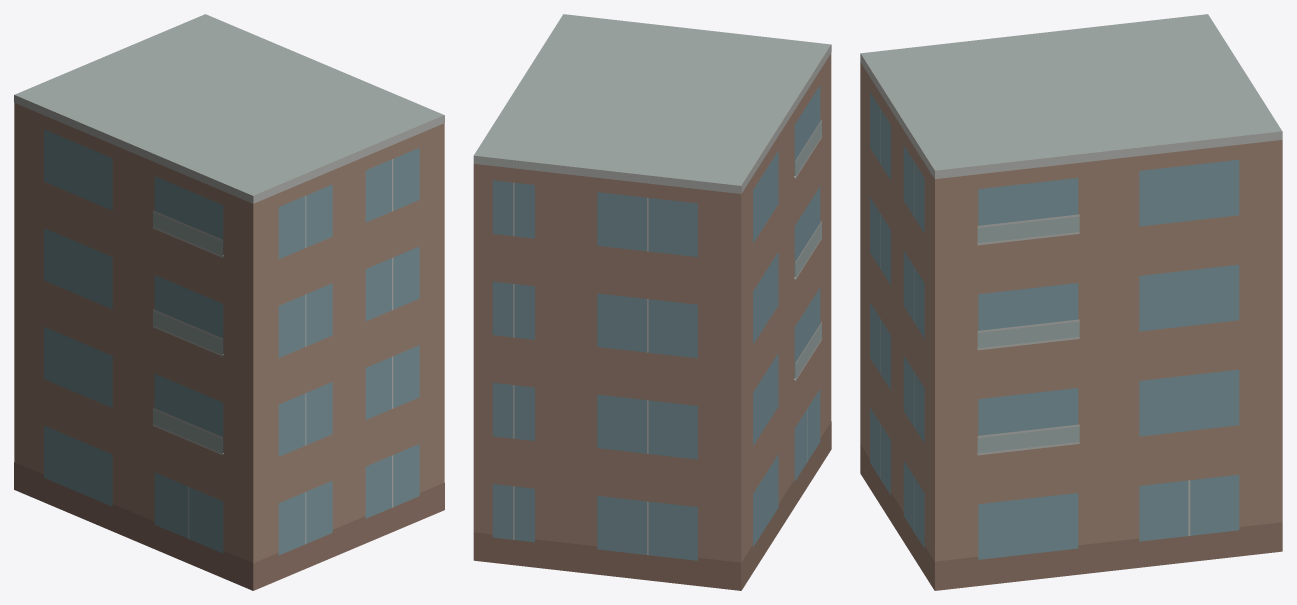
Rendered from residential-6b066b2d-f974-4544-8aff-dcc3209a767e.glb.
3 renders of one model, left to right at view 1: azimuth 30°, elevation 25°; view 2: azimuth 150°, elevation 25°; view 3: azimuth 270°, elevation 25°, orthographic. The views are drawn at different scales.
Visible parts, largest first — view 1: residential-6b066b2d-f974-4544-8aff-dcc3209a767e.tmp; view 2: residential-6b066b2d-f974-4544-8aff-dcc3209a767e.tmp; view 3: residential-6b066b2d-f974-4544-8aff-dcc3209a767e.tmp.
Boxes of the visible parts, x1,y1,x2,y2 form: residential-6b066b2d-f974-4544-8aff-dcc3209a767e.tmp: (14,14,444,590); residential-6b066b2d-f974-4544-8aff-dcc3209a767e.tmp: (473,14,831,590); residential-6b066b2d-f974-4544-8aff-dcc3209a767e.tmp: (860,14,1282,590).
Size of the model in its own units: 9.78 by 12.2 by 11.12.
